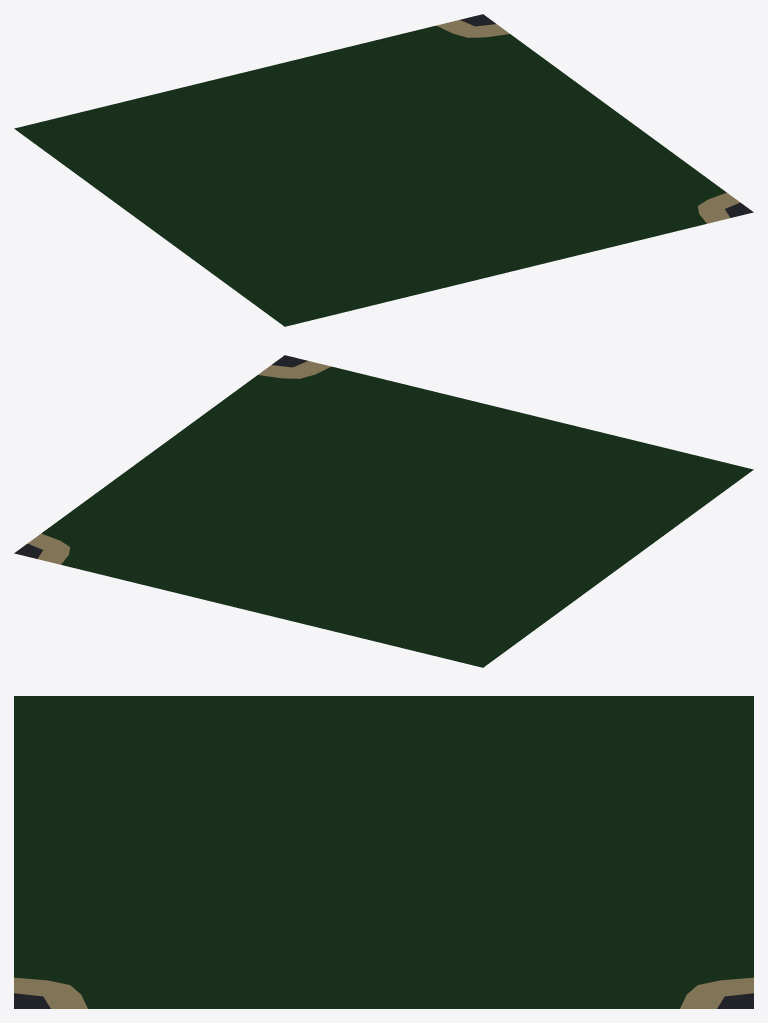
The model's file is terrain_plain_penninsulastart1.fbx.
3 renders of one model, top to bottom at view 1: azimuth 30°, elevation 25°; view 2: azimuth 150°, elevation 25°; view 3: azimuth 270°, elevation 25°, orthographic. The views are drawn at different scales.
Visible parts, largest first — view 1: terrain_plain_penninsulastart1; view 2: terrain_plain_penninsulastart1; view 3: terrain_plain_penninsulastart1.
Boxes of the visible parts, x1=… form: terrain_plain_penninsulastart1: x1=14, y1=14, x2=753, y2=326; terrain_plain_penninsulastart1: x1=14, y1=355, x2=753, y2=667; terrain_plain_penninsulastart1: x1=14, y1=696, x2=753, y2=1008.
Size of the model in its own units: 10 by 0 by 10.
